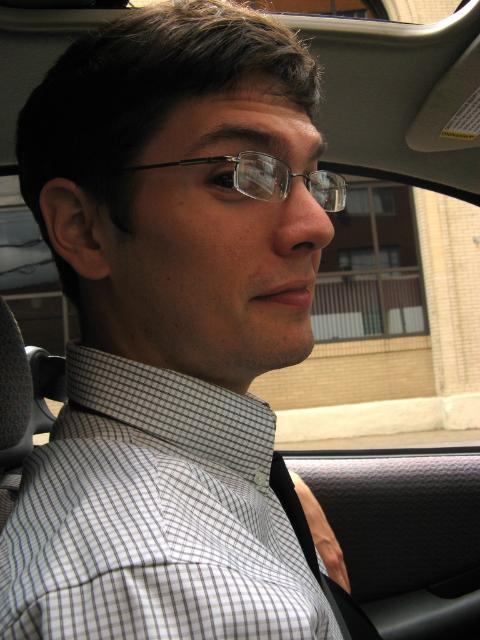SafeDriving: (192, 144, 283, 206)
Seatbelt: (32, 353, 384, 639)
